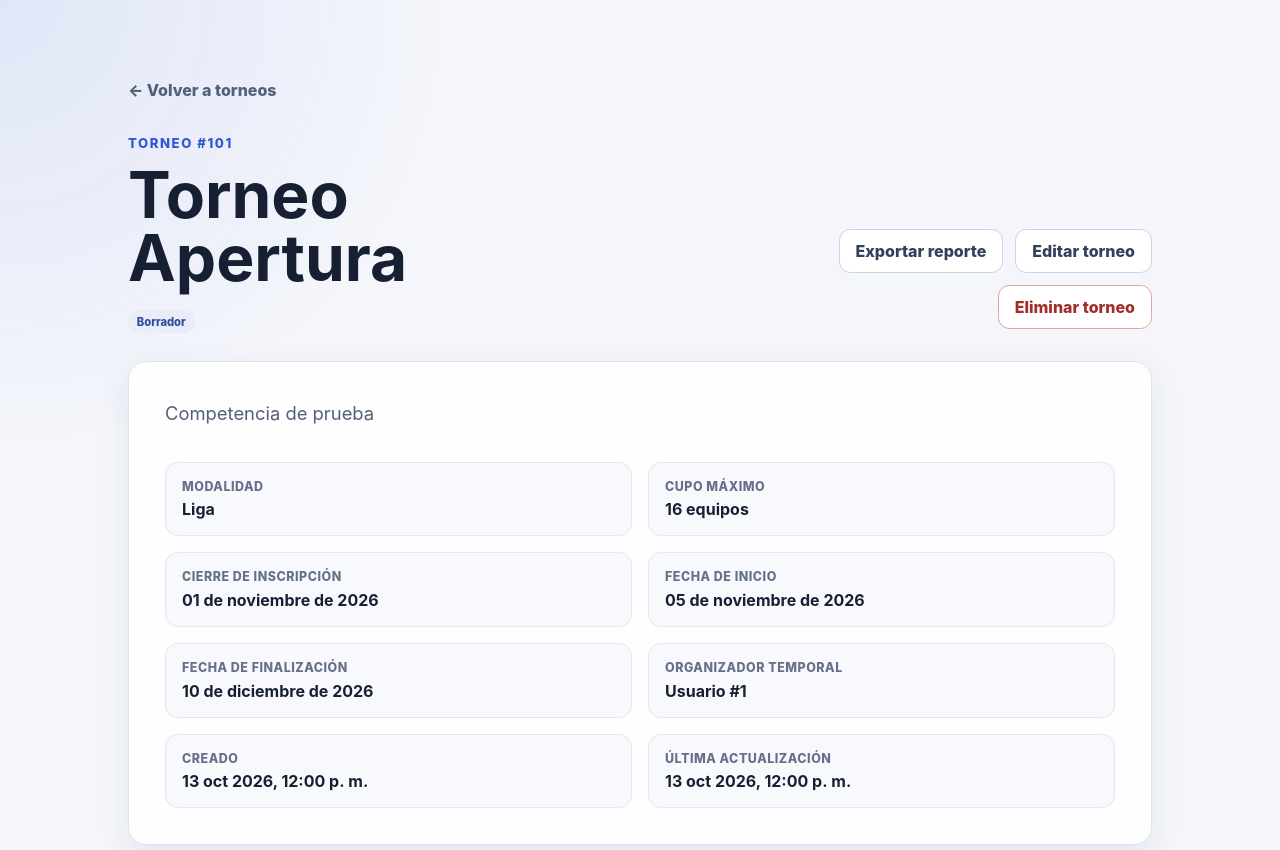
Test: TournamentDetailPage › edita los datos permitidos y actualiza la vista
Click the button "Editar torneo" at coordinates (1084, 251), box [1015,229,1152,273]
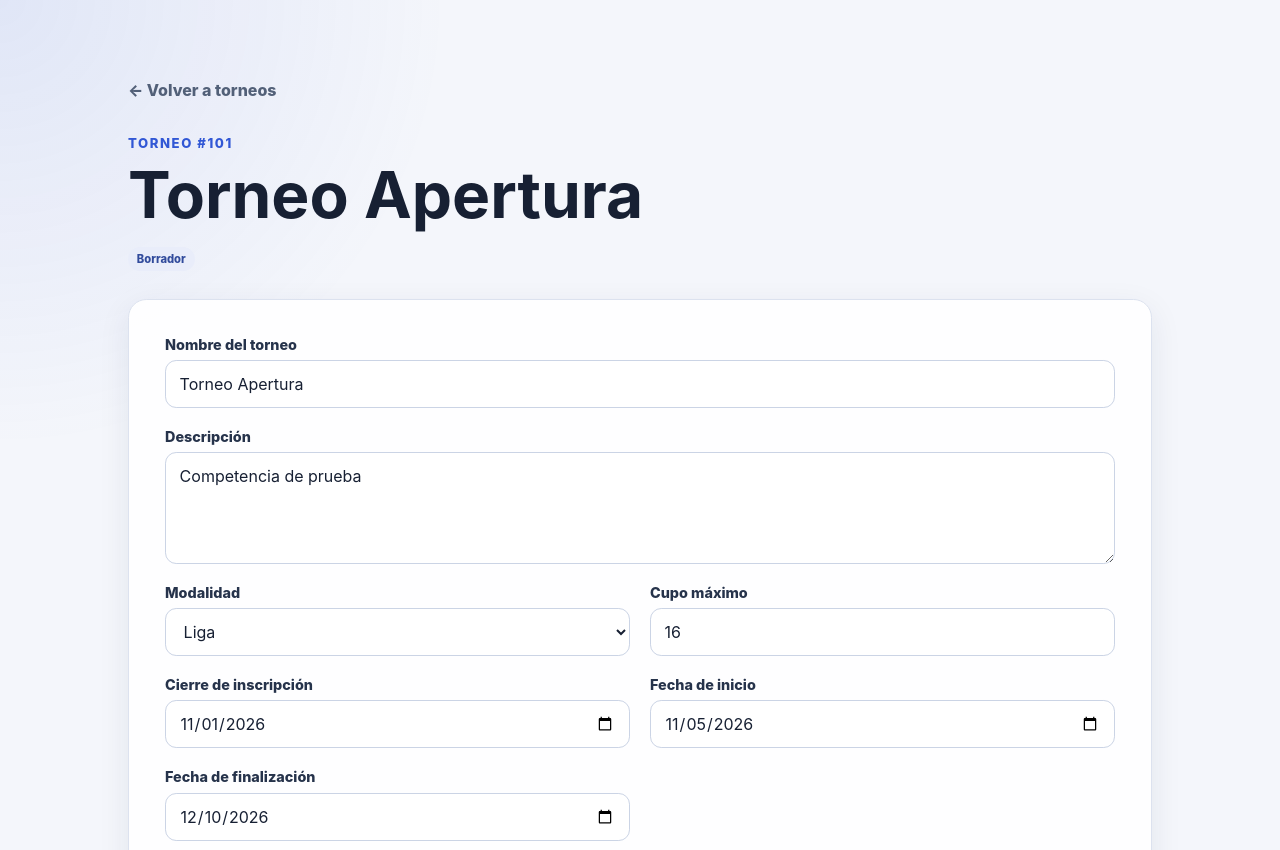
Replace the text in the field labelled "Nombre del torneo" with "Torneo Apertura renovado" at coordinates (640, 384), box [165,360,1115,408]
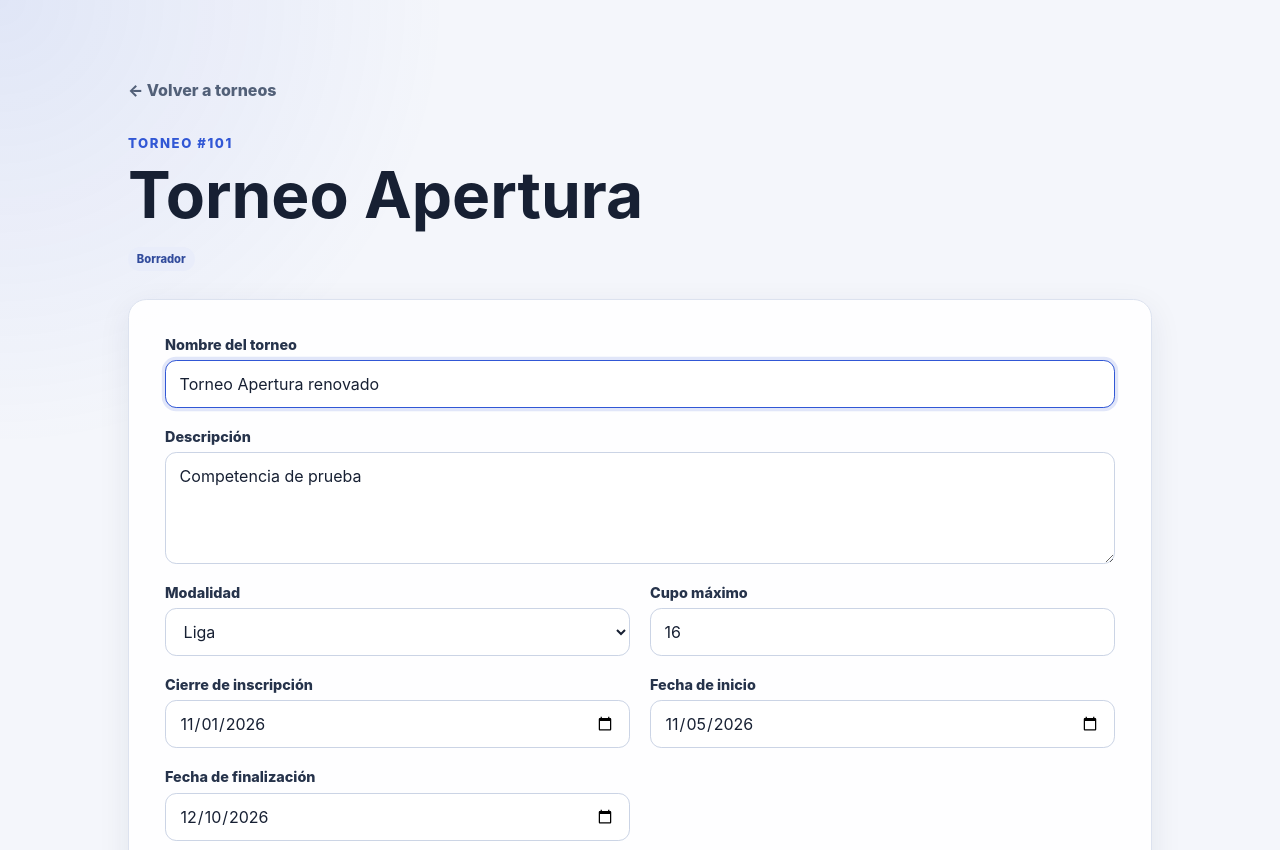
Replace the text in the number field labelled "Cupo máximo" with "20" at coordinates (882, 632), box [650,608,1115,656]
(page scrolled)
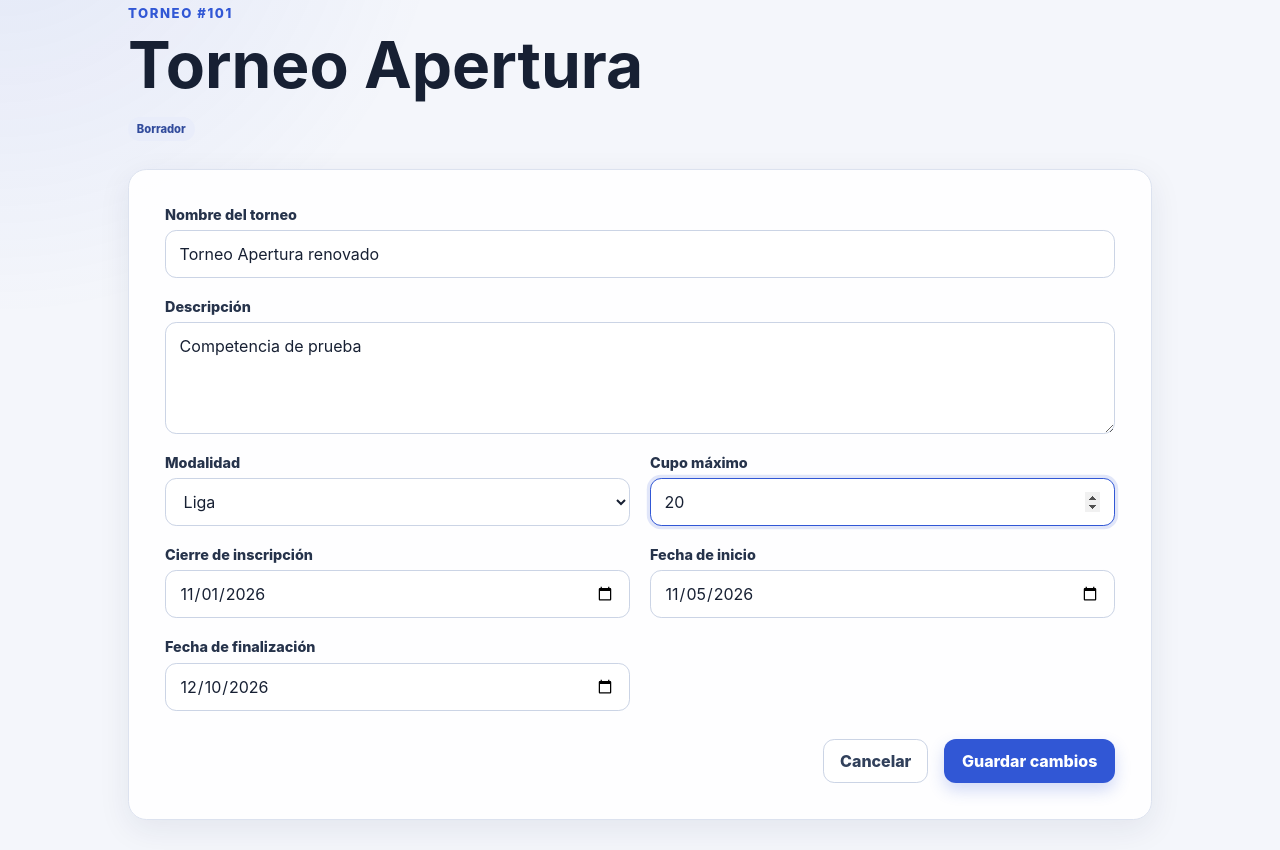
Click the button "Guardar cambios" at coordinates (1030, 761), box [944,739,1115,783]
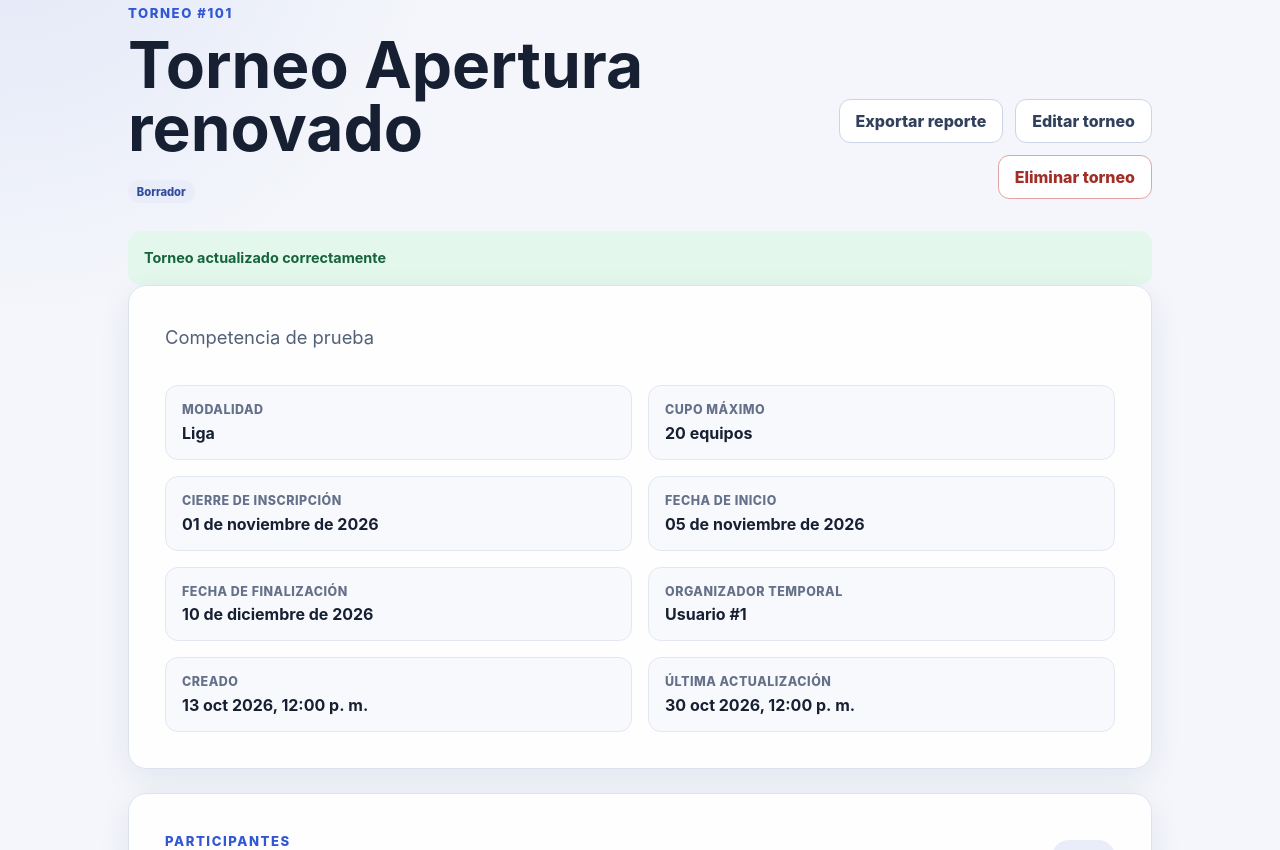
Now the text "Torneo actualizado correctamente" is shown, box [144,249,386,266]
Now the heading "Torneo Apertura renovado" is shown, box [128,34,718,159]
